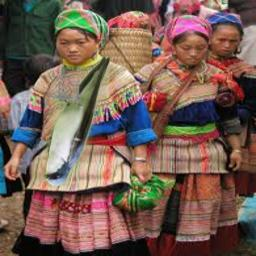Swallow: (42, 56, 110, 186)
